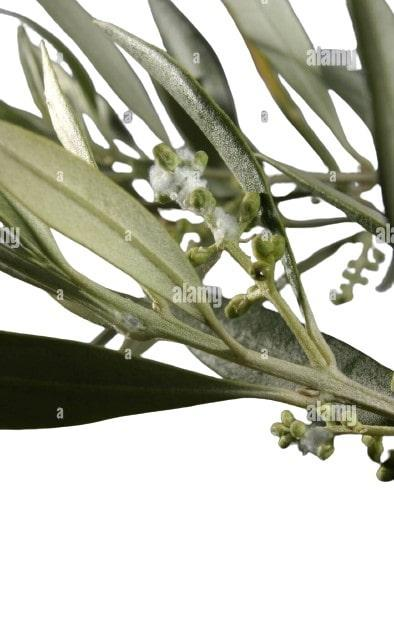Psyllid: (129, 132, 256, 258)
